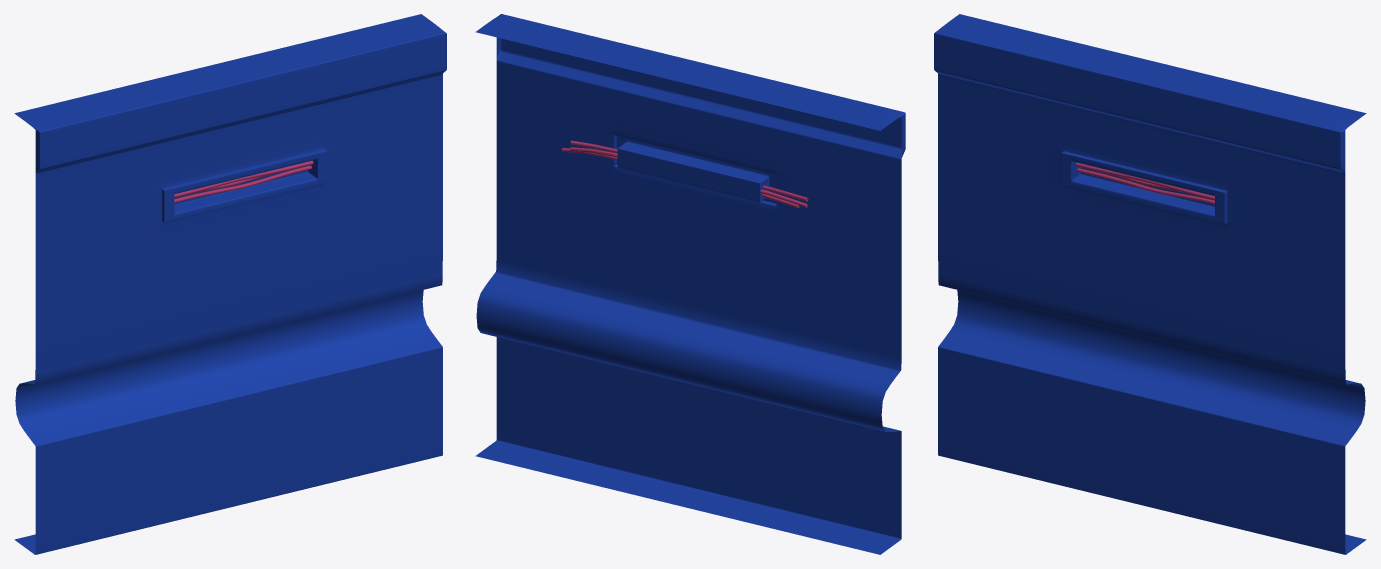
The model's file is wall_02.fbx.
The picture shows the model from 3 angles, left to right: view 1: azimuth 30°, elevation 25°; view 2: azimuth 150°, elevation 25°; view 3: azimuth 330°, elevation 25°; orthographic projection.
Parts seen in each view (by area): view 1: pCube4, wires2, wires1; view 2: pCube4; view 3: pCube4, wires2, wires1.
Part boxes in pixels (x1=…): pCube4: x1=14, y1=14, x2=446, y2=554; wires2: x1=174, y1=165, x2=311, y2=203; wires1: x1=174, y1=160, x2=313, y2=197; pCube4: x1=475, y1=14, x2=905, y2=554; pCube4: x1=934, y1=14, x2=1366, y2=554; wires2: x1=1077, y1=168, x2=1214, y2=204; wires1: x1=1076, y1=162, x2=1214, y2=200.
Size of the model in its own units: 3301 by 3301 by 361.
